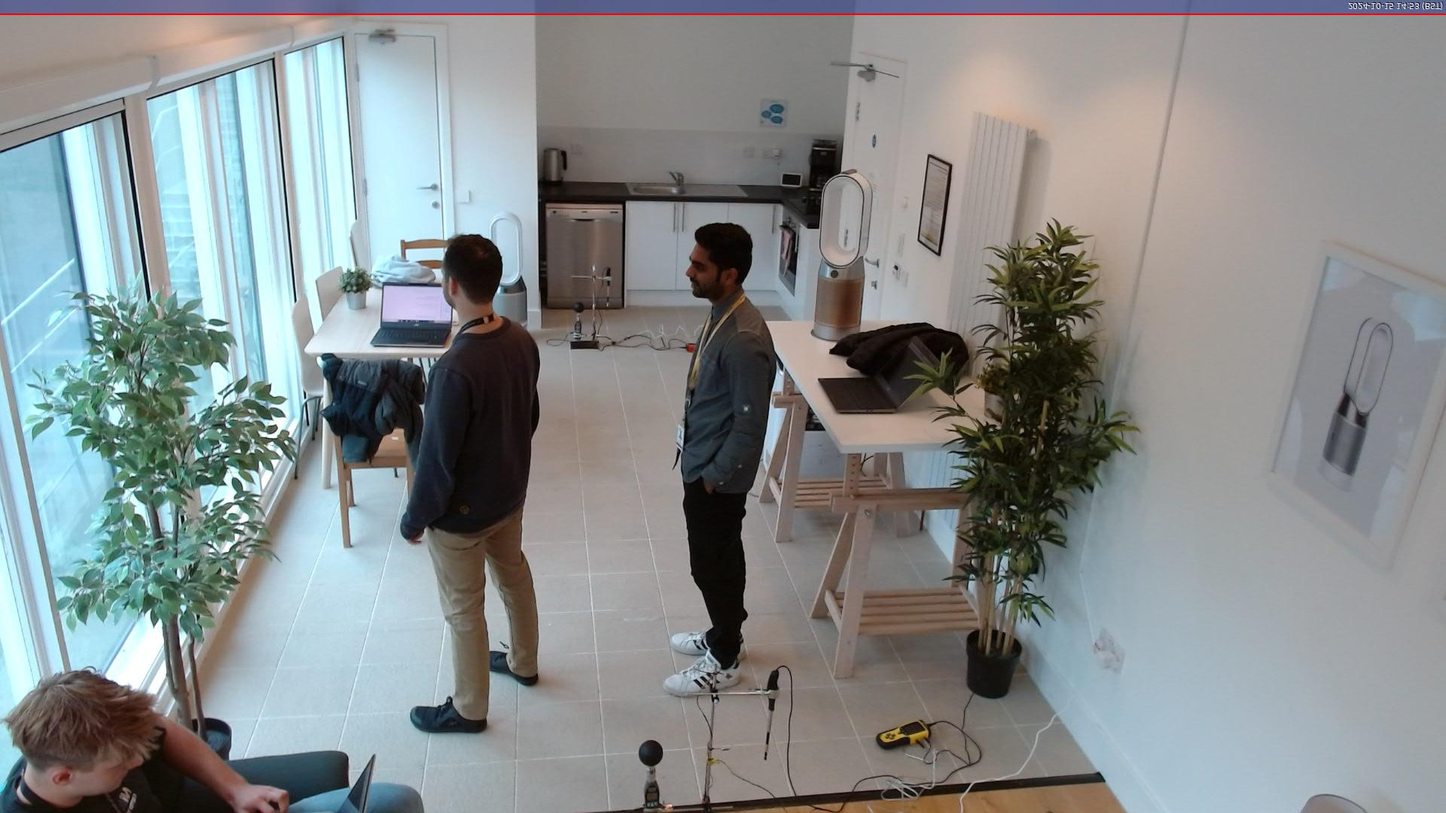long sleeve shirt: (673, 286, 784, 494)
short sleeve shirt: (0, 720, 165, 813)
sweater: (397, 312, 544, 539)
trousers: (426, 497, 544, 722), (679, 476, 752, 672), (279, 780, 427, 813)
